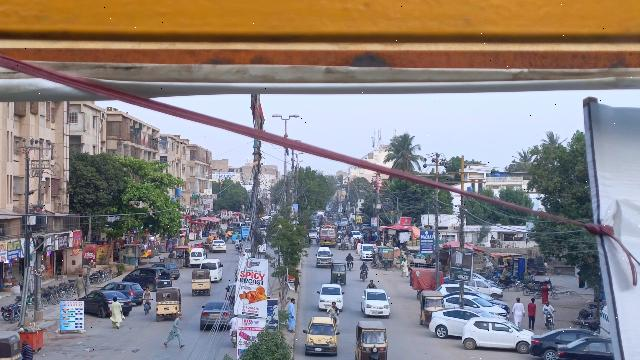Bike: (543, 310, 556, 331), (229, 327, 239, 350), (327, 312, 340, 328), (141, 299, 152, 316), (360, 269, 370, 283)
Car: (460, 318, 534, 352), (301, 315, 340, 357), (78, 290, 130, 318), (120, 266, 172, 289), (198, 300, 233, 332), (360, 287, 392, 318), (316, 282, 347, 311)
Person: (161, 312, 186, 349), (109, 297, 126, 329), (509, 295, 526, 325), (288, 297, 298, 334), (73, 272, 87, 296), (528, 295, 537, 330), (291, 268, 302, 292), (399, 257, 410, 280), (325, 299, 341, 314), (541, 299, 556, 313), (228, 313, 240, 330), (142, 286, 152, 303), (358, 260, 370, 271)
Rickshaw: (354, 318, 389, 360), (416, 288, 444, 329), (154, 286, 183, 322), (189, 268, 212, 297), (330, 260, 348, 287)
Van: (199, 258, 225, 284), (316, 246, 333, 268)
